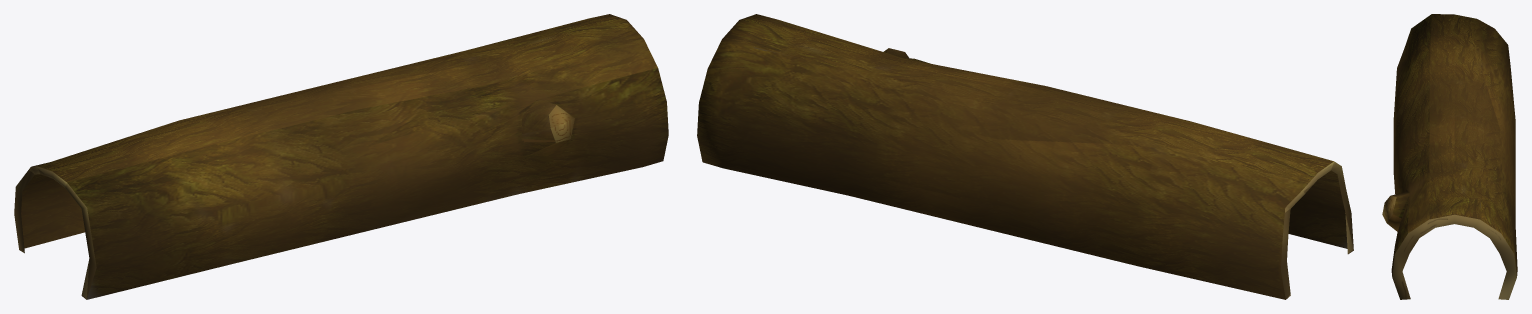
File: trunk.glb
The picture shows the model from 3 angles, left to right: view 1: azimuth 30°, elevation 25°; view 2: azimuth 150°, elevation 25°; view 3: azimuth 270°, elevation 25°; orthographic projection. The views are drawn at different scales.
Parts seen in each view (by area): view 1: lp; view 2: lp; view 3: lp.
Boxes of the visible parts, x1=… form: lp: x1=14, y1=14, x2=668, y2=299; lp: x1=697, y1=14, x2=1353, y2=299; lp: x1=1382, y1=14, x2=1517, y2=299.
Size of the model in its own units: 1.72 by 0.329 by 0.4702.
Materials: 1 (1 with a texture image).
